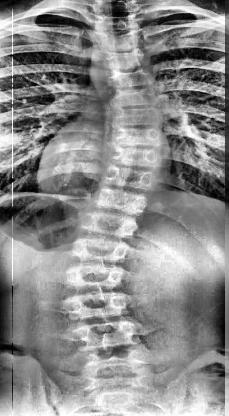Vertebrae: (63, 295, 130, 319), (67, 326, 140, 348), (66, 240, 132, 264), (102, 146, 168, 170), (89, 191, 150, 215), (61, 267, 127, 289), (96, 168, 162, 190), (82, 214, 142, 238), (111, 127, 165, 147), (109, 108, 159, 128), (110, 88, 160, 108), (98, 30, 146, 50), (98, 51, 150, 69), (104, 70, 154, 88), (96, 13, 138, 30)
